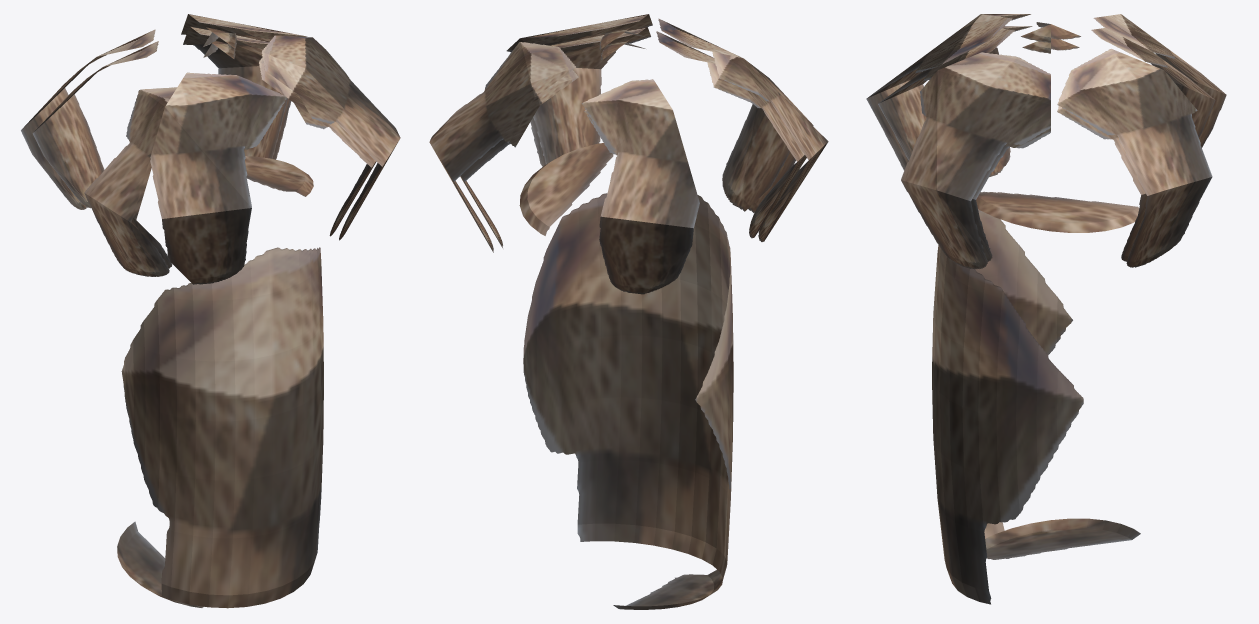
The model's file is Mushroom.fbx.
3 views of the same model, side by side, from view 1: azimuth 30°, elevation 25°; view 2: azimuth 150°, elevation 25°; view 3: azimuth 270°, elevation 25° (orthographic). The views are drawn at different scales.
Visible parts, largest first — view 1: Icosphere; view 2: Icosphere; view 3: Icosphere.
Part boxes in pixels (x1,y1,x2,y2): Icosphere: (21,14,400,608); Icosphere: (429,14,828,609); Icosphere: (866,14,1226,604).
Bounding box in the file's own units: 151 × 232 × 147.
